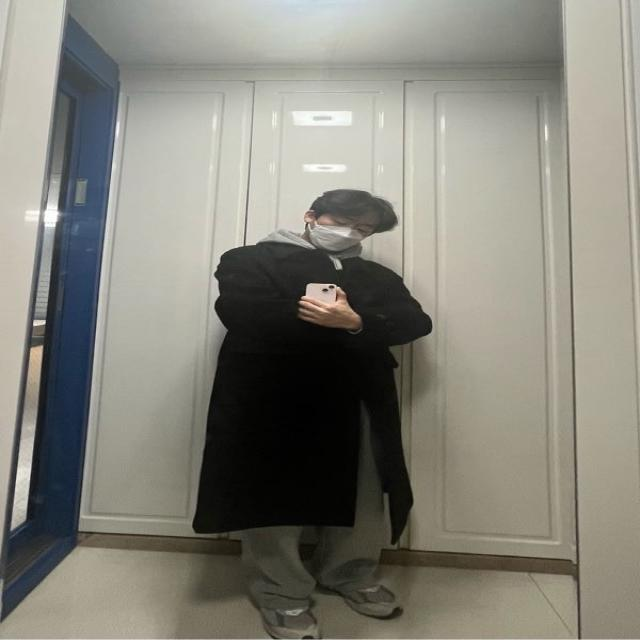coat: (190, 238, 428, 547)
trainingpants: (235, 392, 398, 614)
